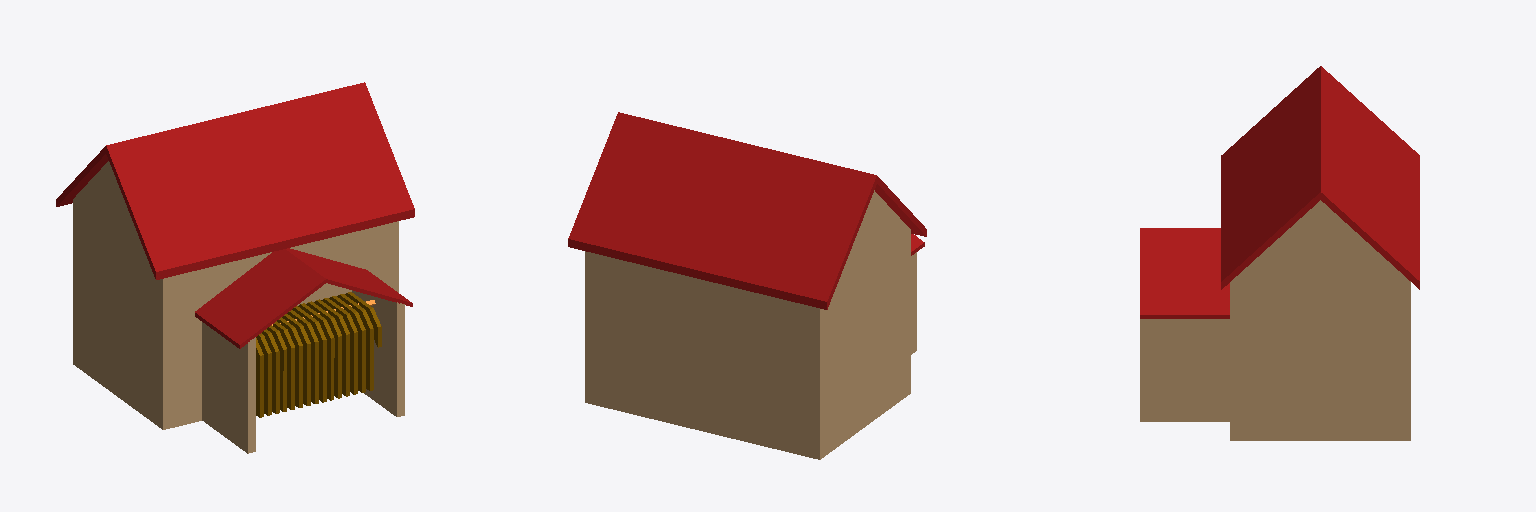
Rendered from BTailor.obj.
3 views of the same model, side by side, from view 1: azimuth 30°, elevation 25°; view 2: azimuth 150°, elevation 25°; view 3: azimuth 270°, elevation 25° (orthographic).
Parts seen in each view (by area): view 1: BTailor; view 2: BTailor; view 3: BTailor.
Part boxes in pixels (x1,y1,x2,y2): BTailor: (56, 82, 414, 453); BTailor: (568, 112, 926, 459); BTailor: (1140, 66, 1419, 440).
Size of the model in its own units: 3.3 by 3.1 by 3.1.